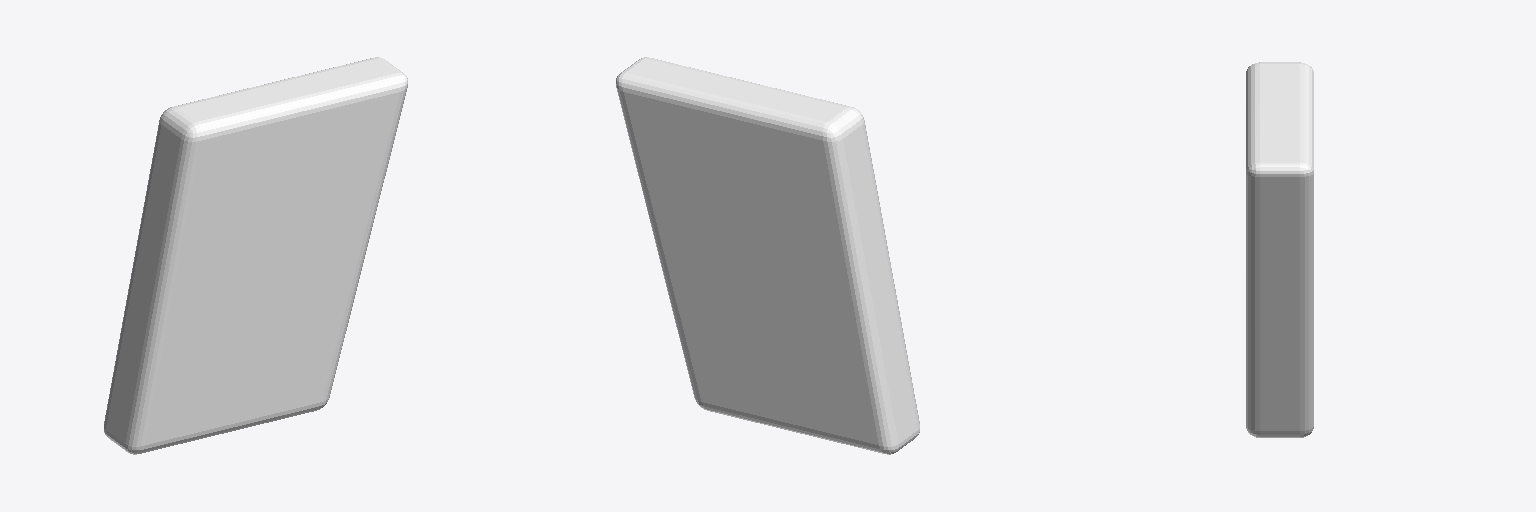
The model's file is Comma.obj.
3 renders of one model, left to right at view 1: azimuth 30°, elevation 25°; view 2: azimuth 150°, elevation 25°; view 3: azimuth 270°, elevation 25°, orthographic.
Parts seen in each view (by area): view 1: node_id339_mesh_id340; view 2: node_id339_mesh_id340; view 3: node_id339_mesh_id340.
Boxes of the visible parts, <box> form: node_id339_mesh_id340: <box>104,57,407,454</box>; node_id339_mesh_id340: <box>616,57,919,454</box>; node_id339_mesh_id340: <box>1246,62,1313,437</box>.
Size of the model in its own units: 0.1217 by 0.1307 by 0.0258.